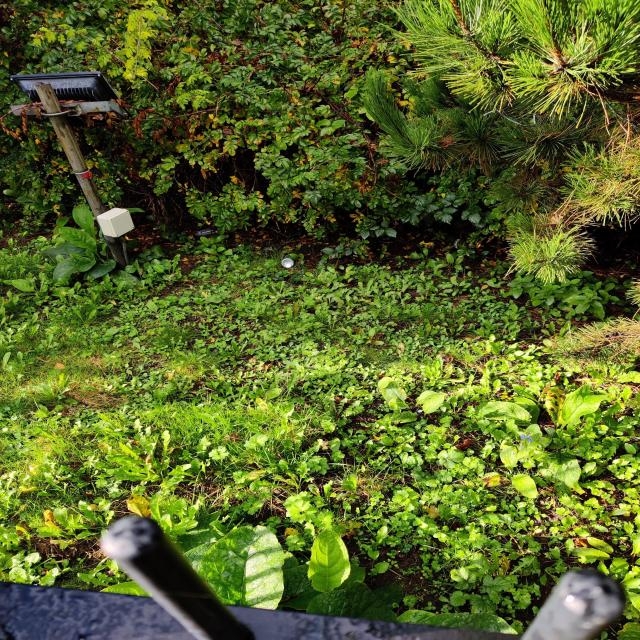litter: (197, 225, 218, 238), (281, 255, 295, 268)
